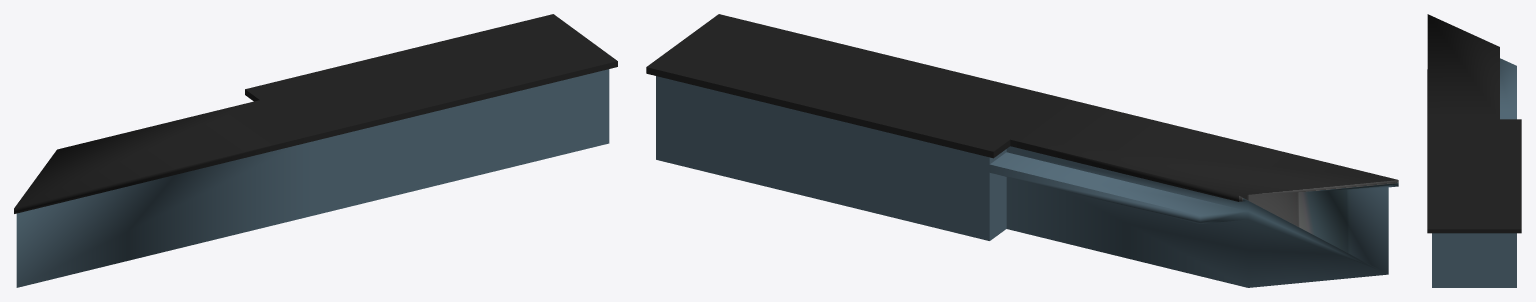
The model's file is HorizontalShelf.fbx.
3 views of the same model, side by side, from view 1: azimuth 30°, elevation 25°; view 2: azimuth 150°, elevation 25°; view 3: azimuth 270°, elevation 25° (orthographic). The views are drawn at different scales.
Visible parts, largest first — view 1: polySurface310; view 2: polySurface310; view 3: polySurface310.
Part boxes in pixels (x1,y1,x2,y2): polySurface310: (14, 14, 617, 287); polySurface310: (646, 14, 1398, 287); polySurface310: (1427, 14, 1521, 287).
Bounding box in the file's own units: 164 × 21.65 × 30.39.
